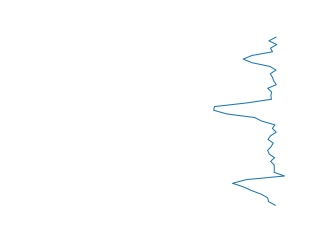underwaterNaturalLevee: (209, 35, 290, 211)
